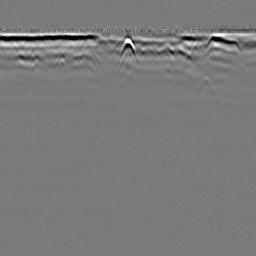cavity: (118, 33, 138, 60)
